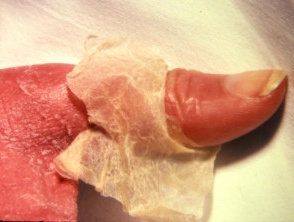SJS-TEN: (0, 28, 228, 222)
